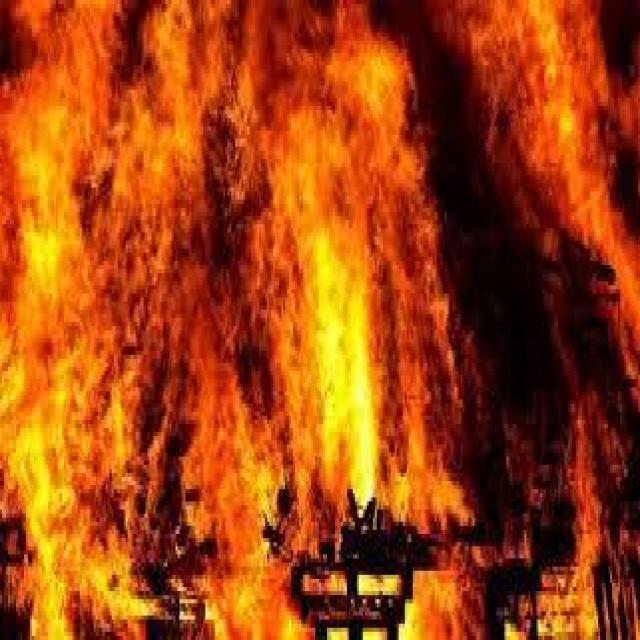Fire: (8, 6, 640, 634)
